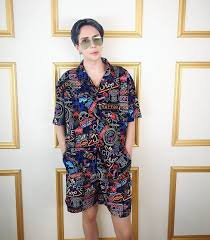white_male: (70, 26, 104, 62)
